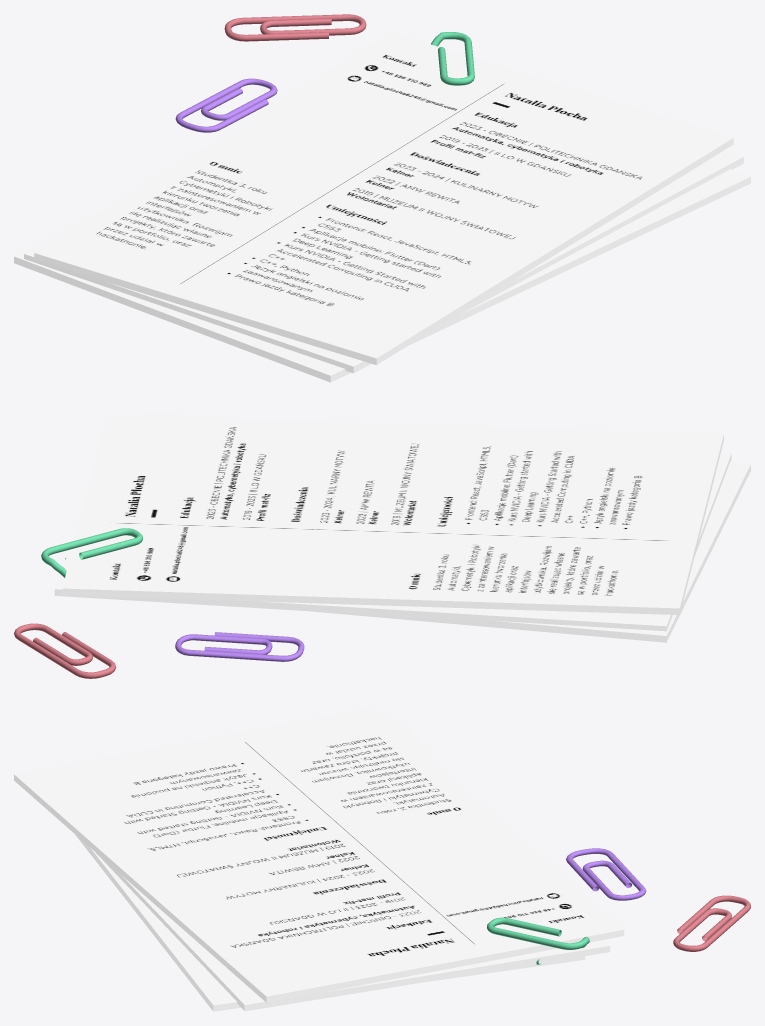
Rendered from kartki.glb.
3 renders of one model, top to bottom at view 1: azimuth 30°, elevation 25°; view 2: azimuth 150°, elevation 25°; view 3: azimuth 270°, elevation 25°, orthographic. The views are drawn at different scales.
Visible parts, largest first — view 1: Plane.003, Plane.007, Plane.008, Plane.006; view 2: Plane.003, Plane.008, Plane.007, Plane.006; view 3: Plane.003, Plane.007, Plane.008, Plane.006.
Part boxes in pixels (left/top/right/bottom): Plane.003: left=14, top=32, right=750, bottom=382; Plane.007: left=224, top=14, right=366, bottom=41; Plane.008: left=175, top=78, right=277, bottom=132; Plane.006: left=431, top=32, right=474, bottom=85; Plane.003: left=54, top=411, right=750, bottom=642; Plane.008: left=175, top=632, right=304, bottom=661; Plane.007: left=14, top=623, right=116, bottom=678; Plane.006: left=41, top=528, right=142, bottom=577; Plane.003: left=14, top=707, right=624, bottom=1011; Plane.007: left=673, top=895, right=750, bottom=951; Plane.008: left=566, top=848, right=646, bottom=900; Plane.006: left=487, top=917, right=589, bottom=964.
Size of the model in its own units: 0.0343 by 0.00174 by 0.0367.
4 materials, 1 textured.
